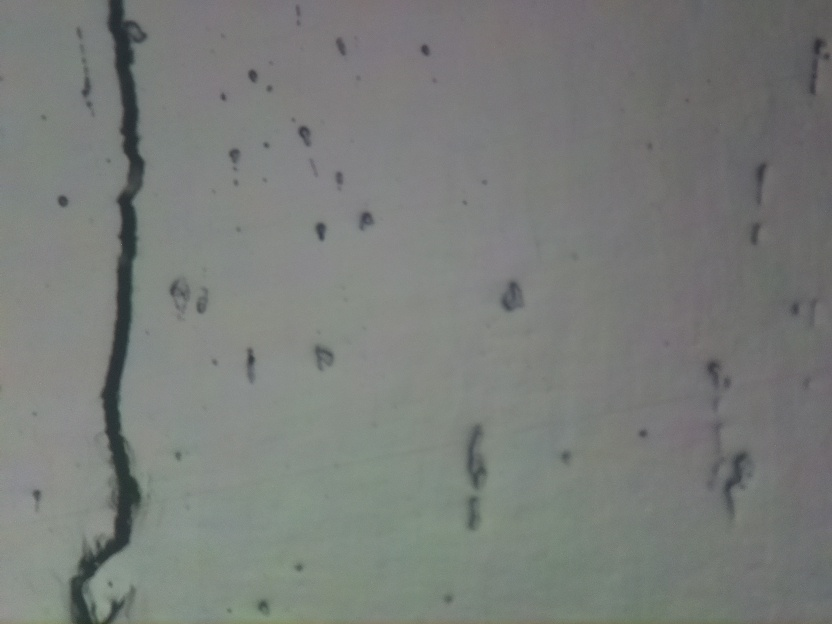crack: (66, 0, 145, 622)
